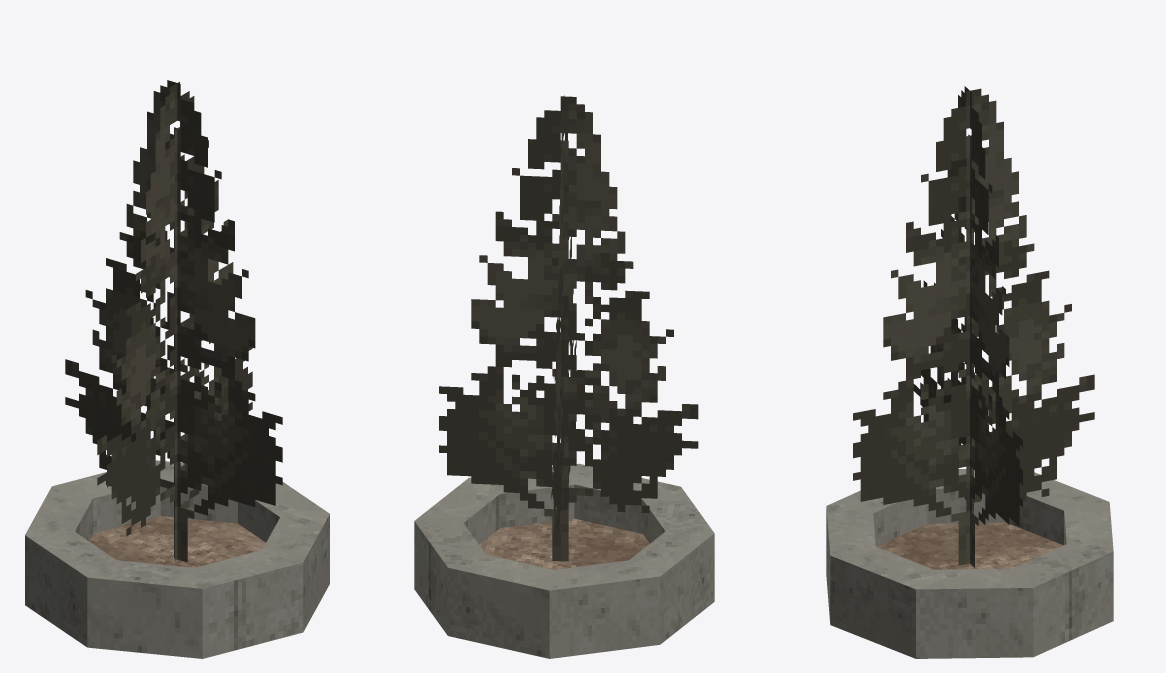
File: procgen-procpain-tree-park-pine-large-x2zm3.obj
3 renders of one model, left to right at view 1: azimuth 30°, elevation 25°; view 2: azimuth 150°, elevation 25°; view 3: azimuth 270°, elevation 25°, orthographic. The views are drawn at different scales.
Size of the model in its own units: 5.88 by 9.06 by 5.88.
